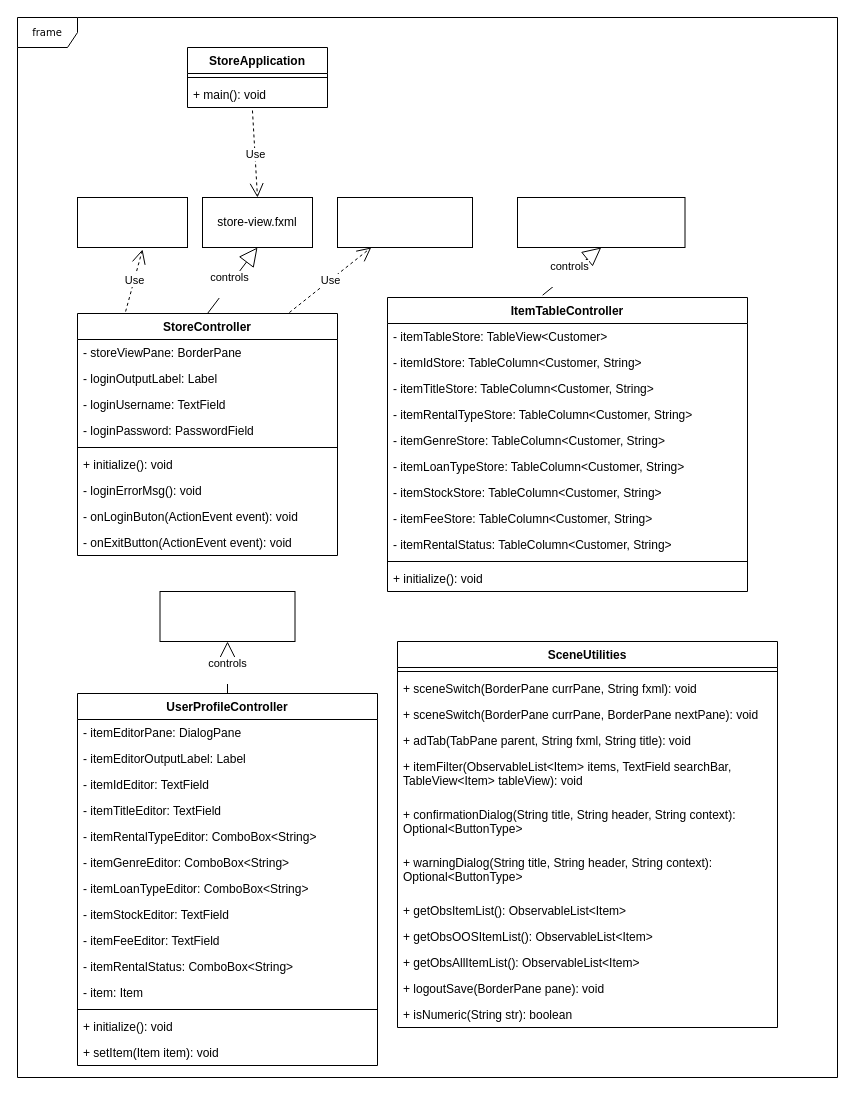
The diagram is 855 pixels wide and 1095 high, and some of its shapes have lost their labels. The centre of each missing label's shape, as x and y in pixels:
"admin-view.fxml" belongs at point 132,222.
"customer-view.fxml" belongs at point 404,222.
"itemEditor-view.fxml" belongs at point 227,616.
"itemTable-view.fxml" belongs at point 600,222.
